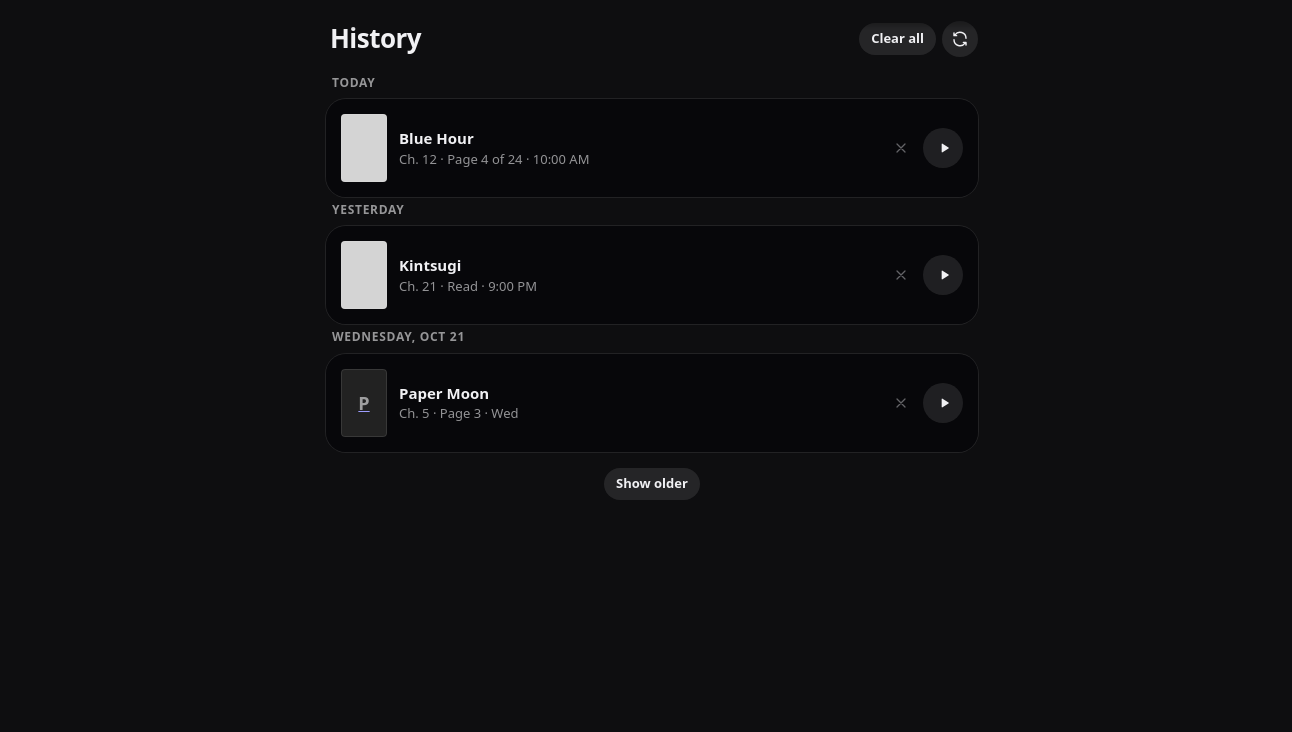
resumes at the next chapter after a finished one
Click the button named "Resume Kintsugi" at (943, 276), box [923,256,963,296]
(page scrolled)
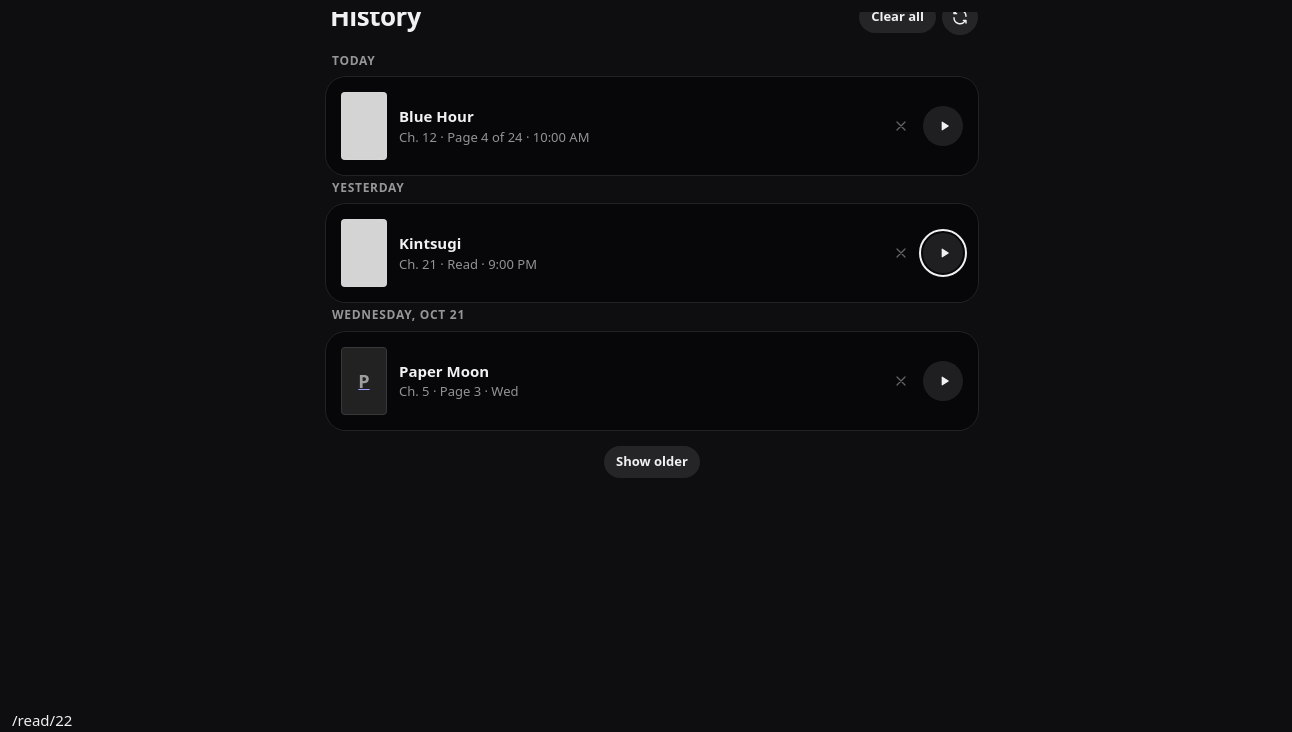
Expected: the text with test id "location" reads "/read/22", [12,710,72,730]
